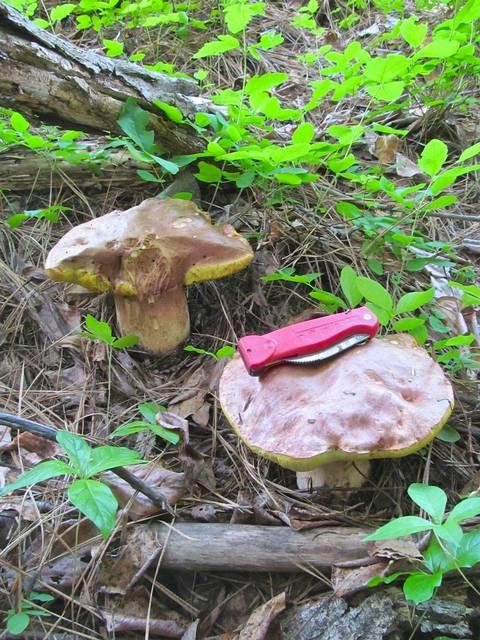Edible Mushroom: (217, 306, 455, 492), (43, 194, 254, 359)
